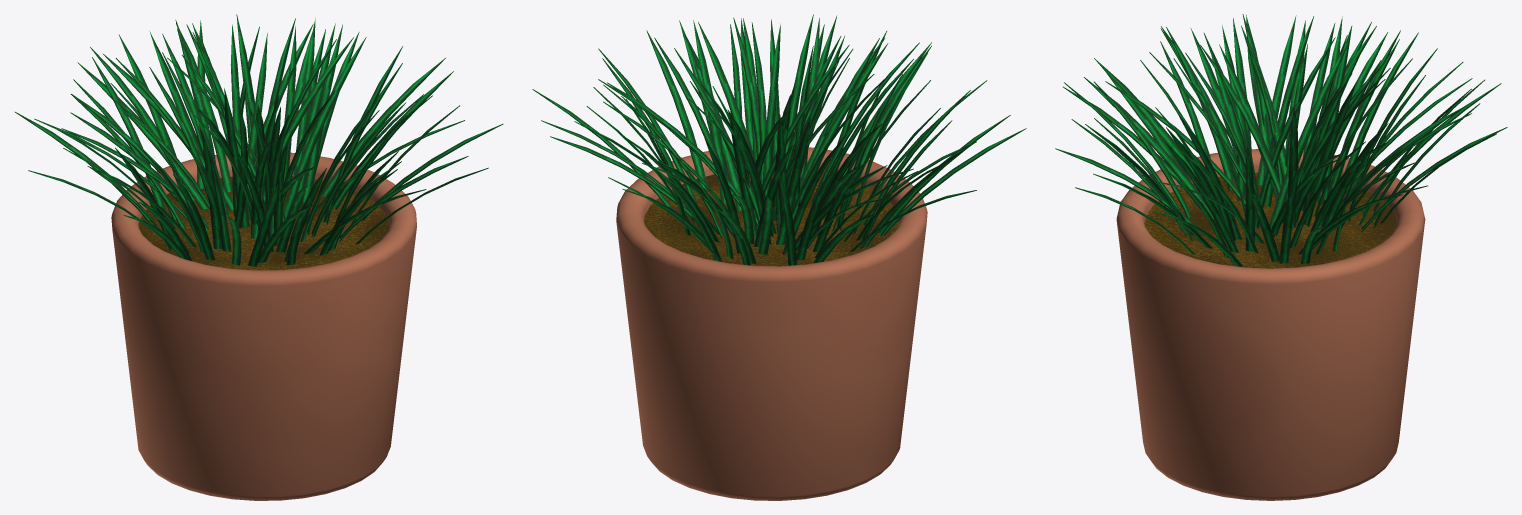
File: misc_plant.fbx
3 views of the same model, side by side, from view 1: azimuth 30°, elevation 25°; view 2: azimuth 150°, elevation 25°; view 3: azimuth 270°, elevation 25° (orthographic).
Parts seen in each view (by area): view 1: flow_pot.001, Plane.001, Plane|leaf|Dupli|11, Plane|leaf|Dupli|16, Plane|leaf|Dupli|45, Plane|leaf|Dupli|19, Plane|leaf|Dupli|20, Plane|leaf|Dupli|15, Plane|leaf|Dupli|9, Plane|leaf|Dupli|66, Plane|leaf|Dupli|88, Plane|leaf|Dupli|46 (+33 smaller); view 2: flow_pot.001, Plane.001, Plane|leaf|Dupli|95, Plane|leaf|Dupli|64, Plane|leaf|Dupli|98, Plane|leaf|Dupli|86, Plane|leaf|Dupli|34, Plane|leaf|Dupli|84, Plane|leaf|Dupli|56, Plane|leaf|Dupli|78, Plane|leaf|Dupli|85, Plane|leaf|Dupli|33 (+30 smaller); view 3: flow_pot.001, Plane.001, Plane|leaf|Dupli|41, Plane|leaf|Dupli|40, Plane|leaf|Dupli|38, Plane|leaf|Dupli|68, Plane|leaf|Dupli|97, Plane|leaf|Dupli|56, Plane|leaf|Dupli|73, Plane|leaf|Dupli|79, Plane|leaf|Dupli|59, Plane|leaf|Dupli|52 (+43 smaller).
Part boxes in pixels (x1,y1,x2,y2): flow_pot.001: (111, 152, 416, 500); Plane.001: (138, 176, 389, 270); Plane|leaf|Dupli|11: (282, 37, 366, 221); Plane|leaf|Dupli|16: (321, 58, 445, 197); Plane|leaf|Dupli|45: (77, 62, 208, 210); Plane|leaf|Dupli|19: (176, 23, 232, 192); Plane|leaf|Dupli|20: (149, 31, 203, 156); Plane|leaf|Dupli|15: (305, 24, 342, 187); Plane|leaf|Dupli|9: (248, 37, 353, 219); Plane|leaf|Dupli|66: (224, 88, 249, 227); Plane|leaf|Dupli|88: (311, 102, 405, 236); Plane|leaf|Dupli|46: (162, 34, 228, 215); flow_pot.001: (616, 147, 927, 500); Plane.001: (644, 173, 899, 266); Plane|leaf|Dupli|95: (646, 30, 707, 189); Plane|leaf|Dupli|64: (792, 43, 888, 220); Plane|leaf|Dupli|98: (762, 24, 780, 196); Plane|leaf|Dupli|86: (693, 20, 727, 203); Plane|leaf|Dupli|34: (776, 116, 811, 245); Plane|leaf|Dupli|84: (698, 22, 755, 163); Plane|leaf|Dupli|56: (811, 42, 919, 203); Plane|leaf|Dupli|78: (883, 128, 1026, 235); Plane|leaf|Dupli|85: (751, 22, 766, 184); Plane|leaf|Dupli|33: (796, 168, 834, 260); flow_pot.001: (1116, 149, 1425, 500); Plane.001: (1144, 172, 1397, 268); Plane|leaf|Dupli|41: (1269, 40, 1349, 237); Plane|leaf|Dupli|40: (1255, 37, 1335, 228); Plane|leaf|Dupli|38: (1264, 16, 1313, 207); Plane|leaf|Dupli|68: (1200, 45, 1293, 229); Plane|leaf|Dupli|97: (1162, 138, 1239, 252); Plane|leaf|Dupli|56: (1084, 77, 1213, 218); Plane|leaf|Dupli|73: (1256, 15, 1296, 185); Plane|leaf|Dupli|79: (1166, 27, 1235, 191); Plane|leaf|Dupli|59: (1094, 81, 1191, 218); Plane|leaf|Dupli|52: (1345, 32, 1418, 171).
Size of the model in its own units: 172 by 149 by 156.
